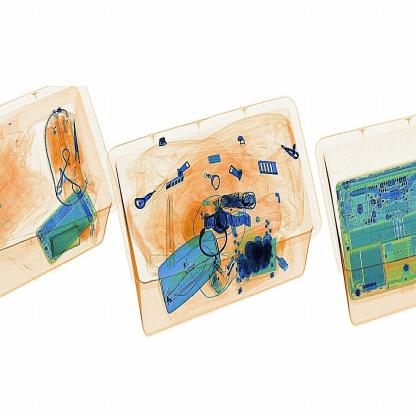pliers: (162, 193, 176, 267)
